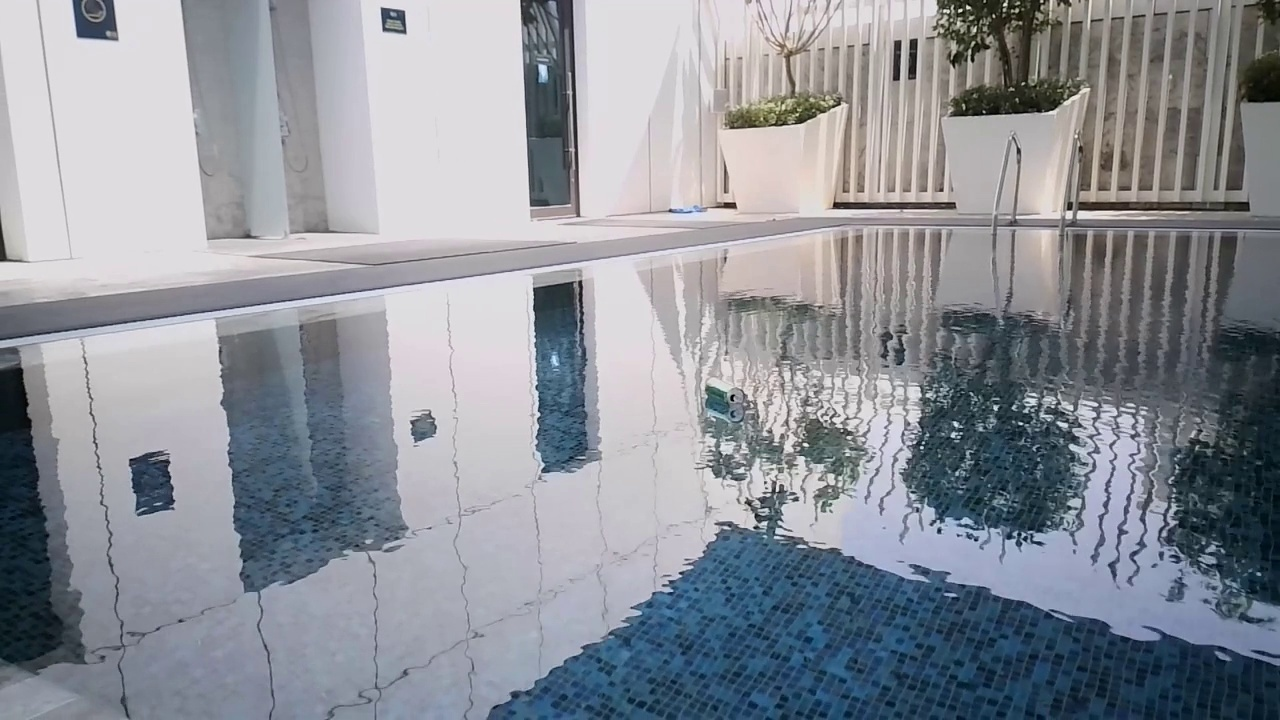debris: (701, 371, 749, 411)
